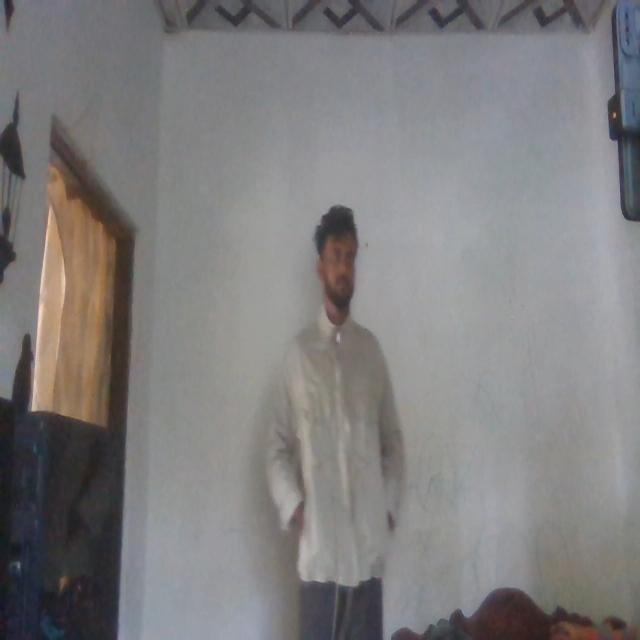Jacket_Wearer: (262, 310, 404, 570)
Person: (264, 206, 408, 640)
